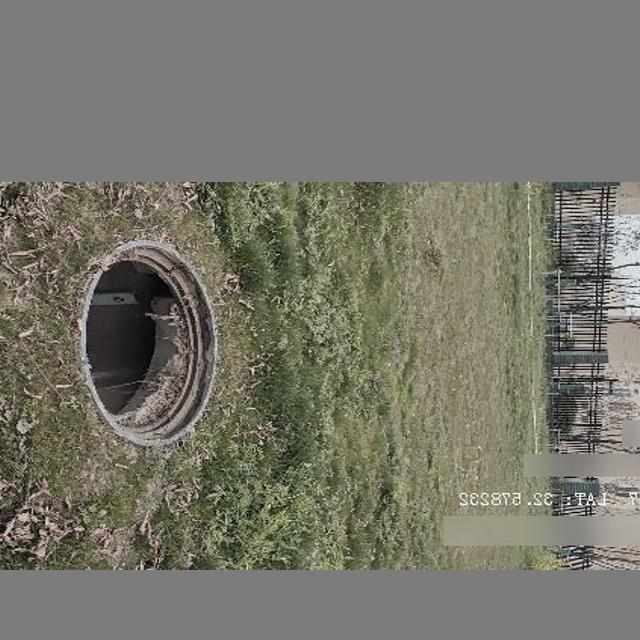lose: (80, 241, 220, 448)
